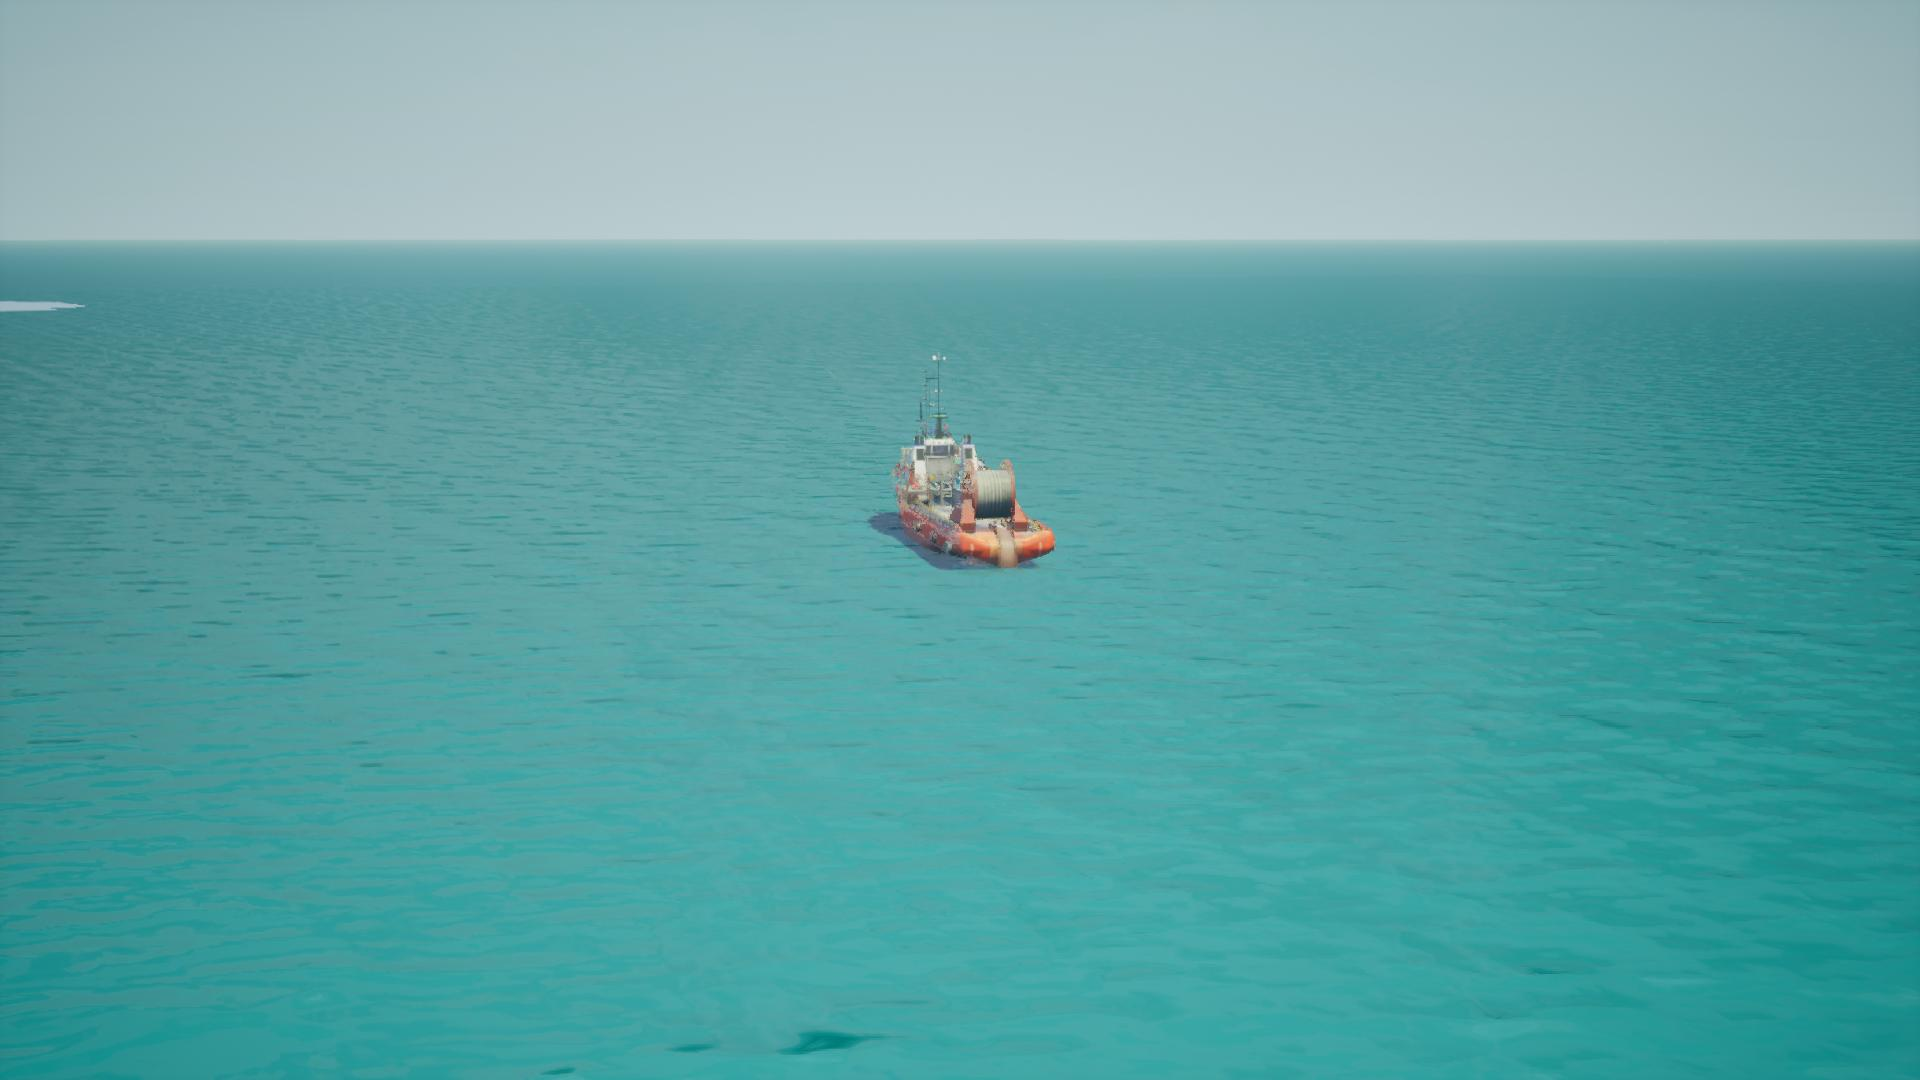Tug Boat: (887, 360, 1043, 578)
